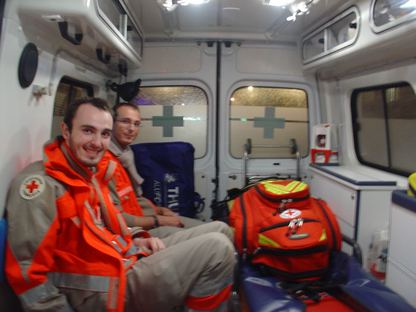ambulance: (1, 0, 415, 311)
